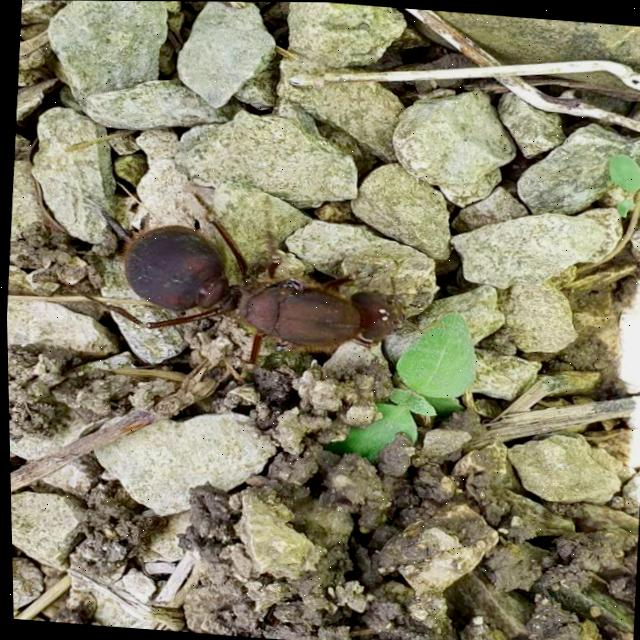Alive-Female-Dealate: (50, 179, 417, 391)
